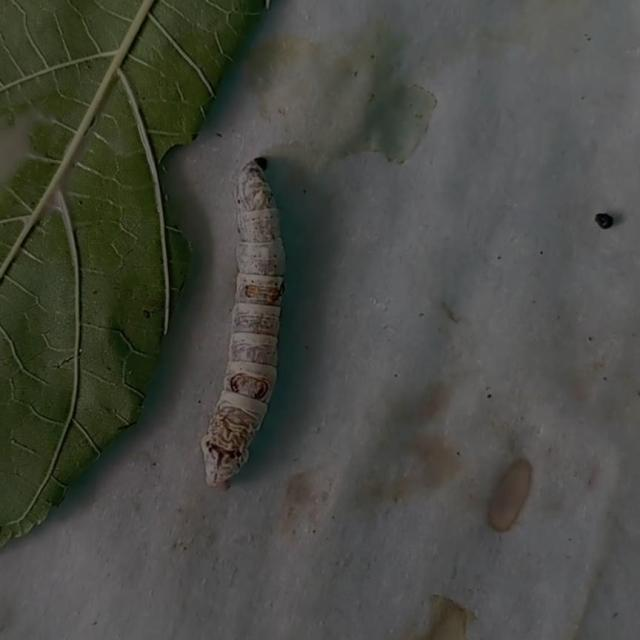Grasserie: (187, 137, 327, 518)
